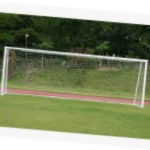goals: (1, 44, 150, 108)
